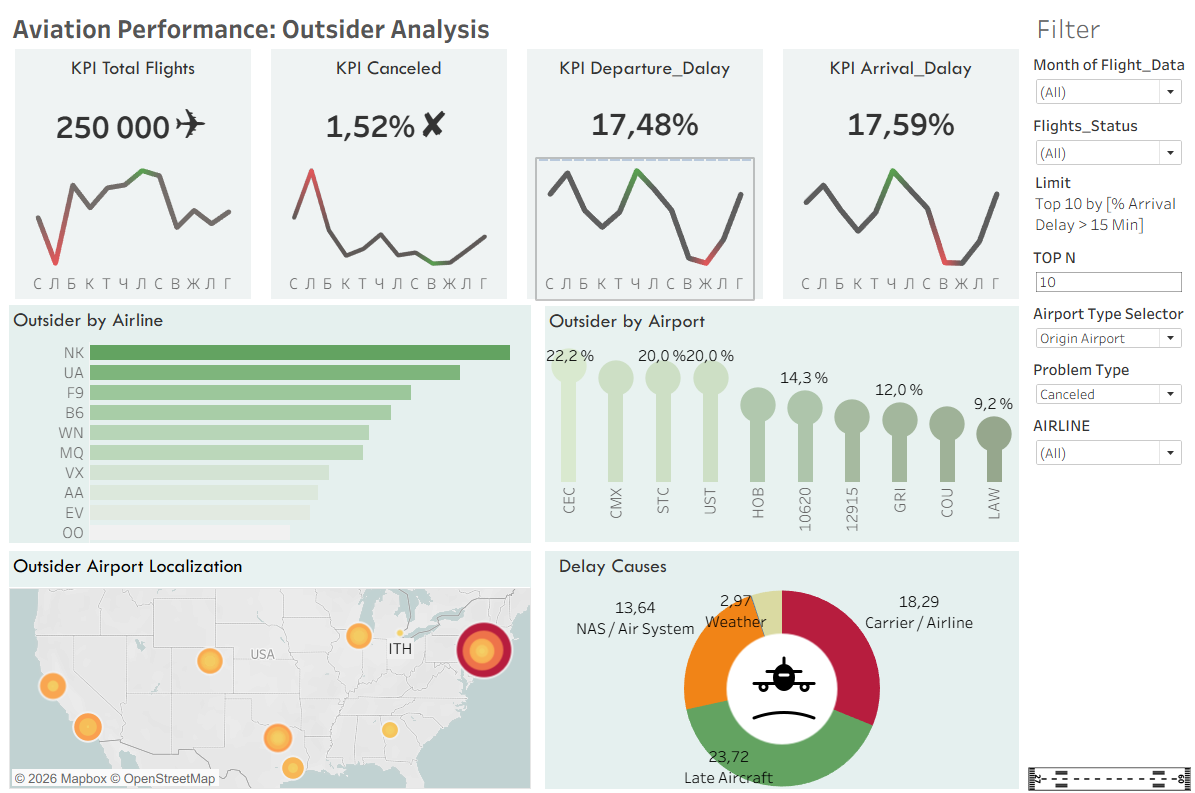

The page's visual inventory and layout, read from the dashboard file:
{"tool":"tableau","page":{"name":"Project","canvas":[1000,1000],"units":"permille","ordinal":0},"visuals":[{"type":"text","box":[6.7,10,853.3,52.5]},{"type":"text","box":[860,10,133.3,53.8]},{"type":"worksheet","title":"KPI Total Flights","mark":"Automatic","box":[23.3,62.5,179.9,137.5]},{"type":"worksheet","title":"KPI Canceled","mark":"Automatic","box":[236.6,62.5,179.9,137.5]},{"type":"worksheet","title":"KPI Departure_Dalay","mark":"Automatic","box":[449.8,62.5,179.9,137.5]},{"type":"worksheet","title":"KPI Arrival_Dalay","mark":"Automatic","box":[663.1,62.5,179.9,137.5]},{"type":"filter","title":"Airline","param":"[federated.0e7pj7l190pxlq1e0fpcb0or4xkh].[mn:Calculation_2191001226692730883:ok]","box":[860,63.8,133.3,76.2]},{"type":"filter","title":"Airline","param":"[federated.0e7pj7l190pxlq1e0fpcb0or4xkh].[none:Calculation_2191001227038449685:n","box":[860,140,133.3,165]},{"type":"worksheet","title":"Sparkline Total Flights","mark":"Line","rows":["Calculation_2191001226693427206","Calculation_2191001226693427206"],"cols":["Calculation_2191001226692730883"],"box":[23.3,200,179.9,175]},{"type":"worksheet","title":"Sparkline Canceled ","mark":"Line","rows":["Calculation_2191001226693271557","Calculation_2191001226693271557"],"cols":["Calculation_2191001226692730883"],"box":[236.6,200,179.9,175]},{"type":"worksheet","title":"Sparkline Arrival_Daley ","mark":"Line","rows":["Calculation_2191001226766725140","Calculation_2191001226766725140"],"cols":["Calculation_2191001226692730883"],"box":[449.8,200,179.9,175]},{"type":"worksheet","title":"Sparkline Departure_Daley","mark":"Line","rows":["Calculation_2191001226762465297","Calculation_2191001226762465297"],"cols":["Calculation_2191001226692730883"],"box":[663.1,200,179.9,175]},{"type":"parameter","param":"[Parameters].[Parameter 1]","box":[860,305,133.3,70]},{"type":"parameter","param":"[Parameters].[Parameter 3]","box":[860,375,133.3,70]},{"type":"worksheet","title":"Airline","mark":"Automatic","rows":["IATA_CODE"],"cols":["Calculation_2191001226693210116"],"box":[6.7,376.6,441.6,306.7]},{"type":"worksheet","title":"Lolipop Airport","mark":"Automatic","rows":["Calculation_2191001227132760089","Calculation_2191001227132760089"],"cols":["Calculation_2191001227104075798"],"box":[448.2,376.6,411.8,306.7]},{"type":"parameter","param":"[Parameters].[Parameter 5]","box":[860,445,133.3,70]},{"type":"filter","title":"Airline","param":"[federated.0e7pj7l190pxlq1e0fpcb0or4xkh].[attr:AIRLINE:nk]","box":[860,515,133.3,76.2]},{"type":"worksheet","title":"Flow map","mark":"Automatic","box":[6.7,683.3,441.6,306.7]},{"type":"worksheet","title":"PIe_Chart(Delay Causes)","mark":"Pie","rows":["Calculation_2191001227202035743","Calculation_2191001227202035743"],"box":[448.2,683.3,411.8,306.7]},{"type":"image","param":"Image/icons8-самолет-64.png","box":[629.2,819.2,53.3,79.8]}]}

Visuals, with their boxes on the dashboard's canvas, which has no fixed pixel size, in thousandths of its width and height (x1, y1, x2, y2). These are canvas units, not pixel positions in the 1195x793 screenshot, which may show the page scaled, cropped or inside an application window:
text: 7 10 860 62
text: 860 10 993 64
"KPI Total Flights" worksheet: 23 62 203 200
"KPI Canceled" worksheet: 237 62 416 200
"KPI Departure_Dalay" worksheet: 450 62 630 200
"KPI Arrival_Dalay" worksheet: 663 62 843 200
"Airline" filter: 860 64 993 140
"Airline" filter: 860 140 993 305
"Sparkline Total Flights" worksheet (Line marks): 23 200 203 375
"Sparkline Canceled " worksheet (Line marks): 237 200 416 375
"Sparkline Arrival_Daley " worksheet (Line marks): 450 200 630 375
"Sparkline Departure_Daley" worksheet (Line marks): 663 200 843 375
parameter: 860 305 993 375
parameter: 860 375 993 445
"Airline" worksheet: 7 377 448 683
"Lolipop Airport" worksheet: 448 377 860 683
parameter: 860 445 993 515
"Airline" filter: 860 515 993 591
"Flow map" worksheet: 7 683 448 990
"PIe_Chart(Delay Causes)" worksheet (Pie marks): 448 683 860 990
image: 629 819 682 899
